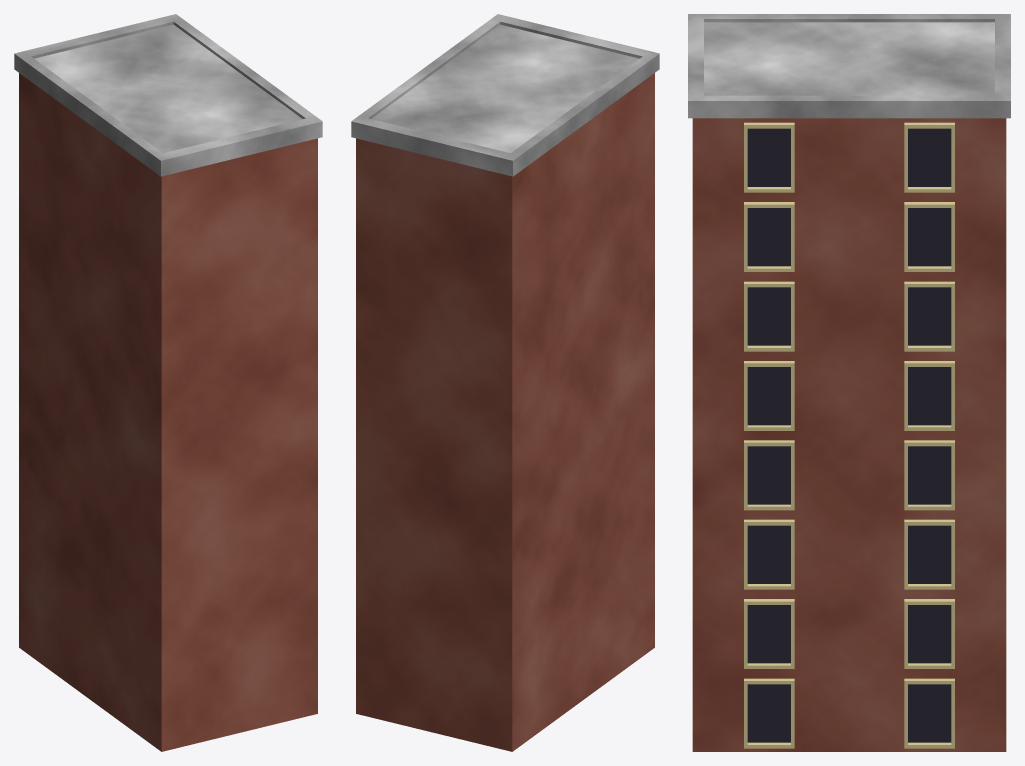
Rendered from 43thirdblock.FBX.
3 renders of one model, left to right at view 1: azimuth 30°, elevation 25°; view 2: azimuth 150°, elevation 25°; view 3: azimuth 270°, elevation 25°, orthographic. The views are drawn at different scales.
Parts seen in each view (by area): view 1: Box001; view 2: Box001; view 3: Box001.
Part boxes in pixels (bbox=[...]): Box001: bbox=[14, 14, 322, 751]; Box001: bbox=[351, 14, 659, 751]; Box001: bbox=[688, 14, 1010, 751].
Bounding box in the file's own units: 783 × 2712 × 1216.
Materials: 1 (1 with a texture image).
